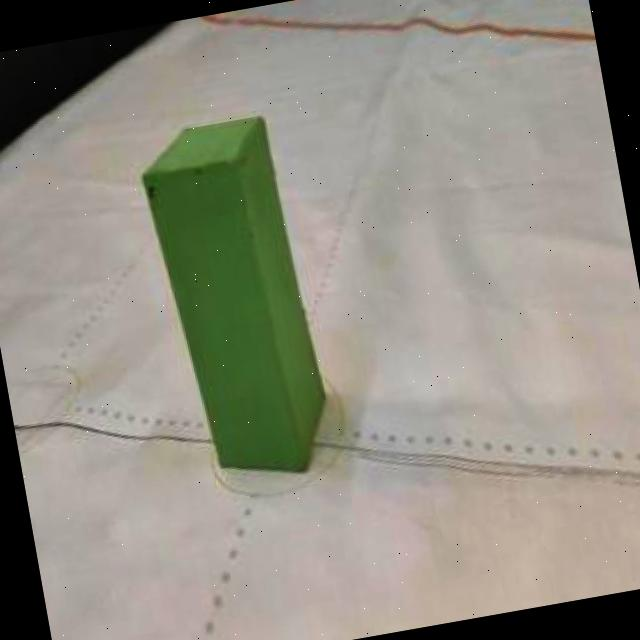greenbox: (133, 109, 340, 495)
